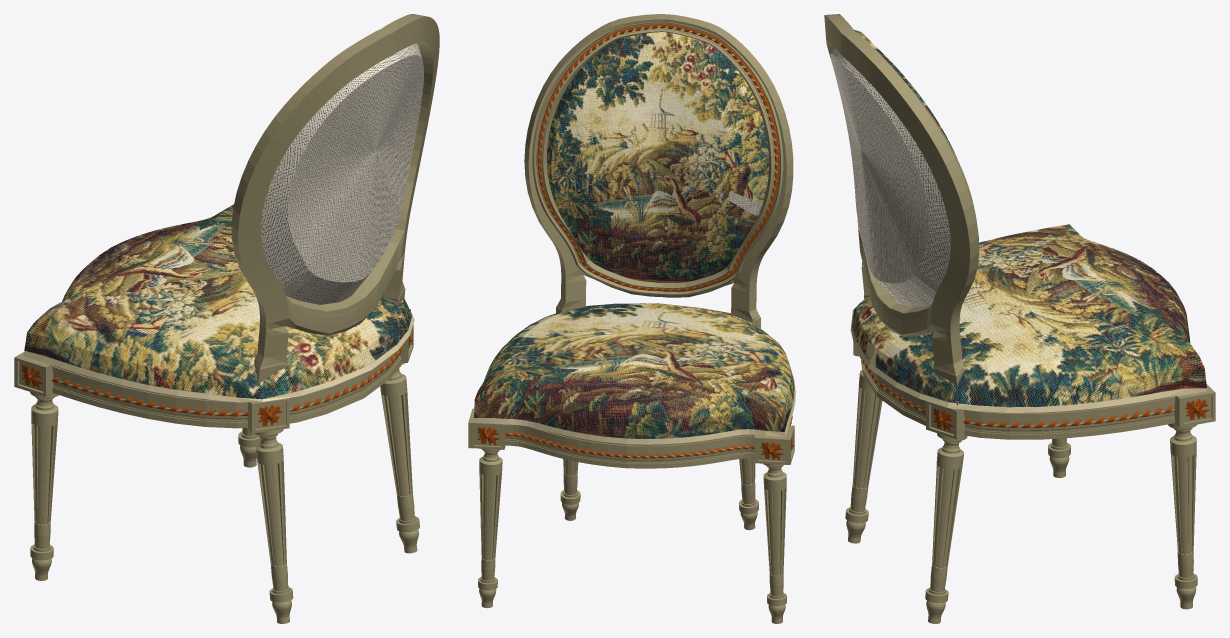
File: Chaise_louisXVI_deco2.obj
3 renders of one model, left to right at view 1: azimuth 30°, elevation 25°; view 2: azimuth 150°, elevation 25°; view 3: azimuth 270°, elevation 25°, orthographic. The views are drawn at different scales.
Visible parts, largest first — view 1: Chaise.001_Cube.001; view 2: Chaise.001_Cube.001; view 3: Chaise.001_Cube.001.
Boxes of the visible parts, x1,y1,x2,y2 form: Chaise.001_Cube.001: (14,14,439,623); Chaise.001_Cube.001: (468,14,795,623); Chaise.001_Cube.001: (824,14,1215,623).
Bounding box in the file's own units: 0.6244 × 0.933 × 0.5929.
Materials: 5 (3 with a texture image).
